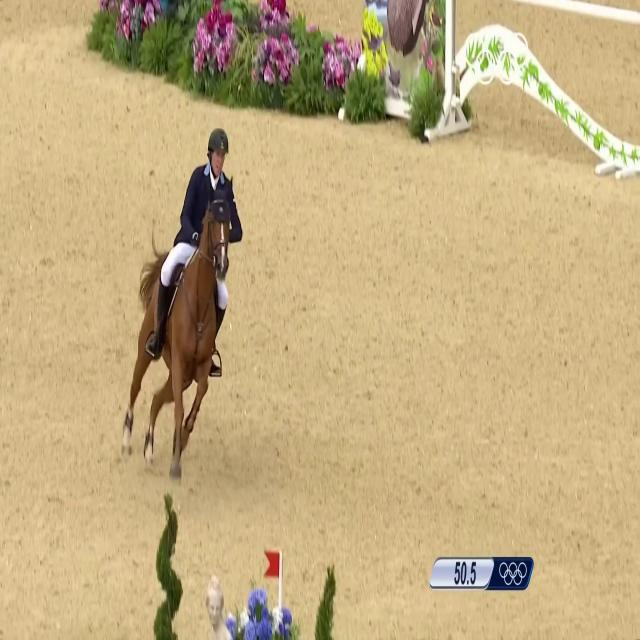Horse Rider: (146, 88, 238, 376)
Horse Running: (120, 186, 248, 486)
